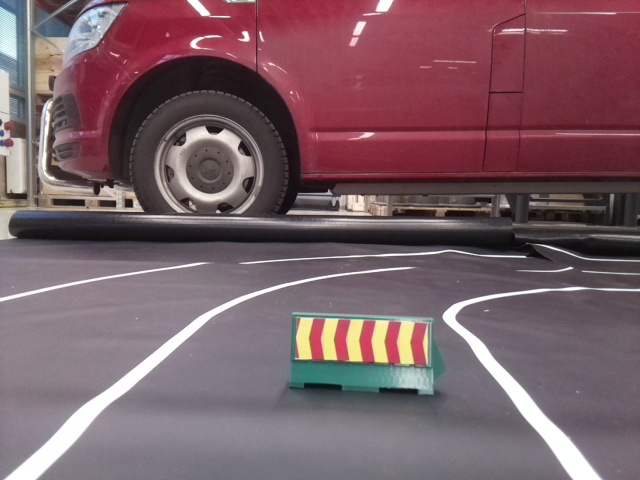ClosedRoadStand: (290, 313, 434, 391)
